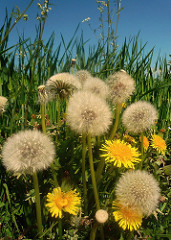dandelion white: (1, 126, 56, 174), (65, 90, 114, 137), (115, 168, 161, 217), (120, 99, 160, 136), (44, 70, 82, 97), (105, 71, 137, 102)
dandelion yellow: (98, 138, 142, 169), (45, 185, 83, 220), (112, 195, 145, 231), (150, 132, 167, 156)
